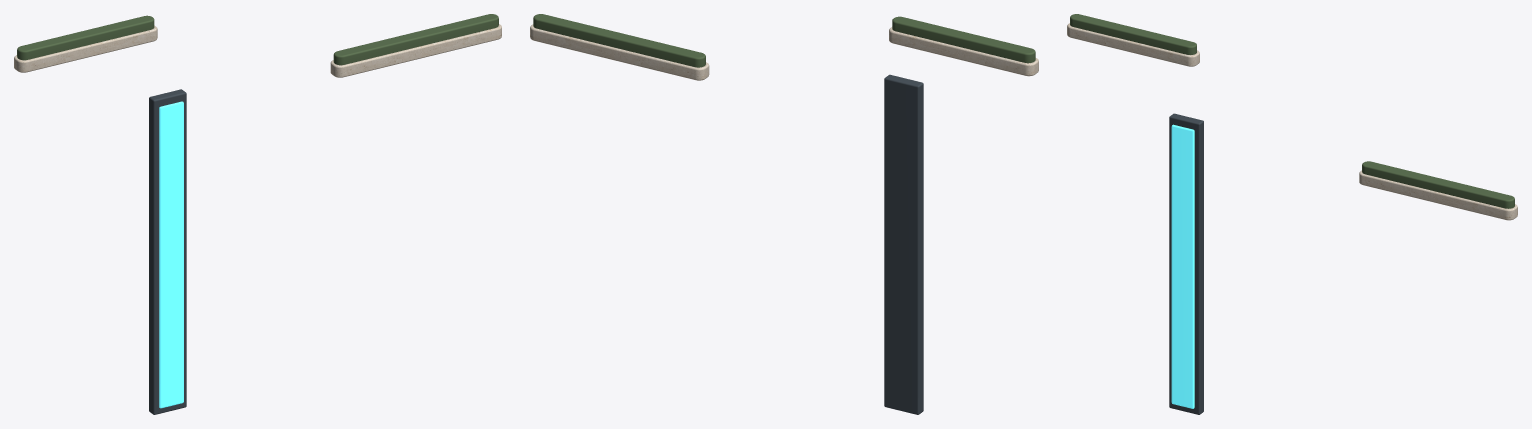
File: details.glb
The picture shows the model from 3 angles, left to right: view 1: azimuth 30°, elevation 25°; view 2: azimuth 150°, elevation 25°; view 3: azimuth 330°, elevation 25°; orthographic projection. The views are drawn at different scales.
Parts seen in each view (by area): view 1: details; view 2: details; view 3: details.
Part boxes in pixels (x1=…): details: x1=14, y1=14, x2=501, y2=414; details: x1=530, y1=14, x2=1038, y2=414; details: x1=1067, y1=14, x2=1517, y2=414.
Bounding box in the file's own units: 5.2 × 3.95 × 0.405.
Materials: 4 (1 with a texture image).
